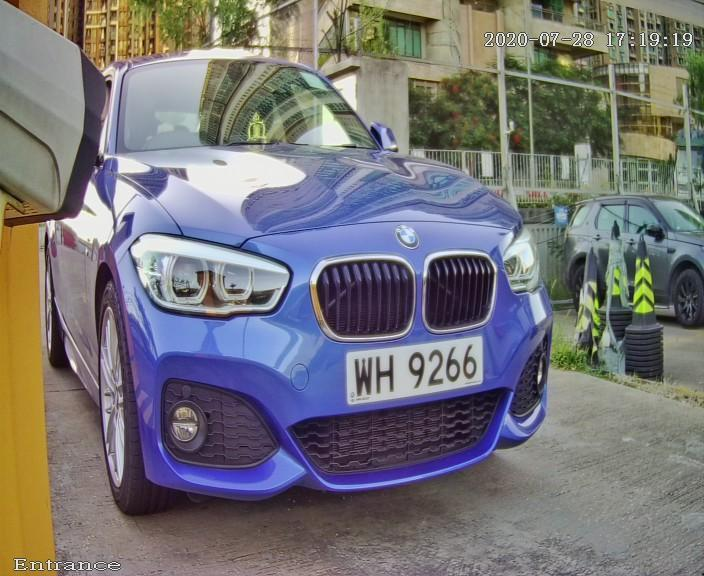privatecar: (13, 11, 657, 548)
